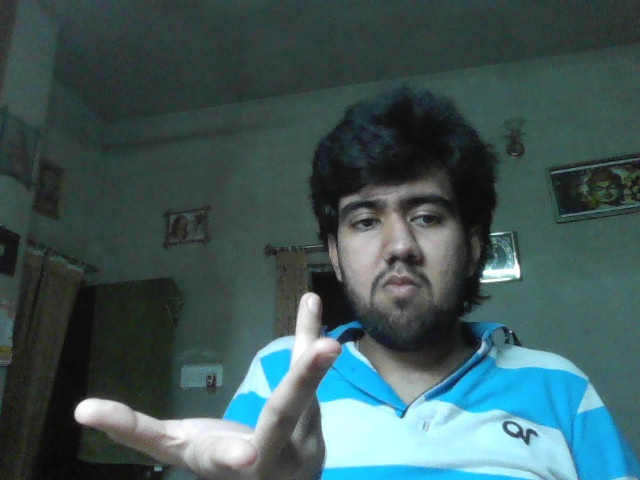What: (74, 290, 342, 480)
